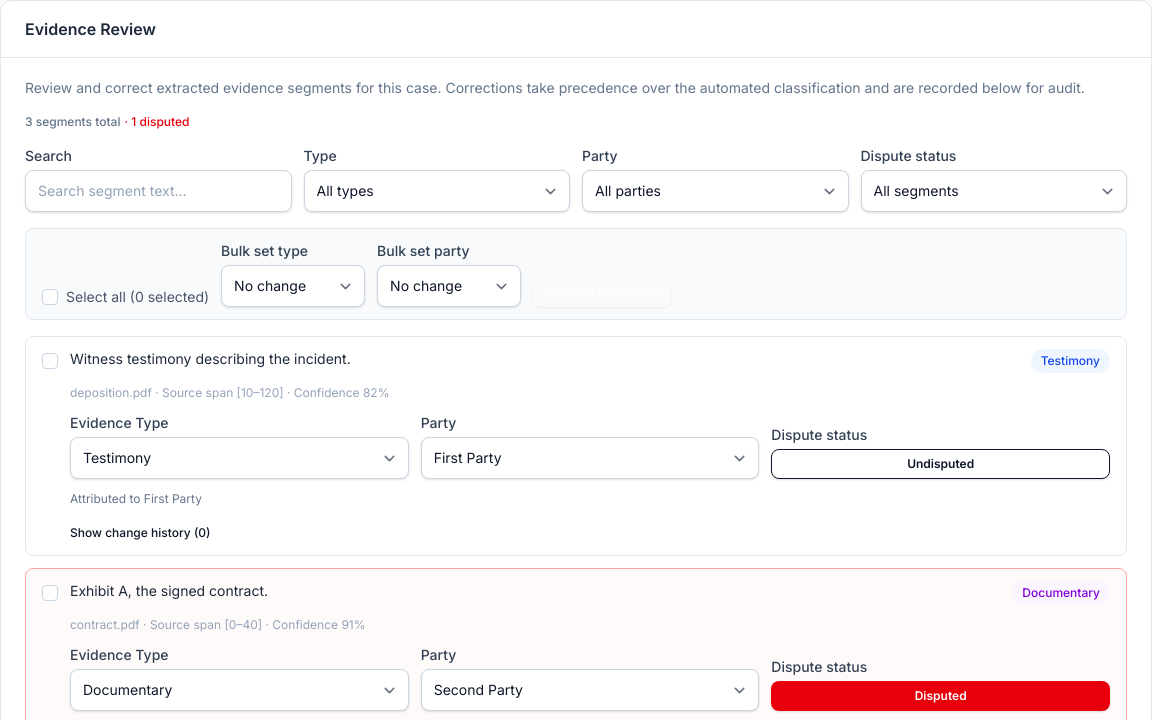
Scenario: EvidenceReviewPanel › toggles a segment between disputed and undisputed
Step 1. Click the button "Undisputed" → (941, 464), box x1=771 y1=449 x2=1110 y2=479
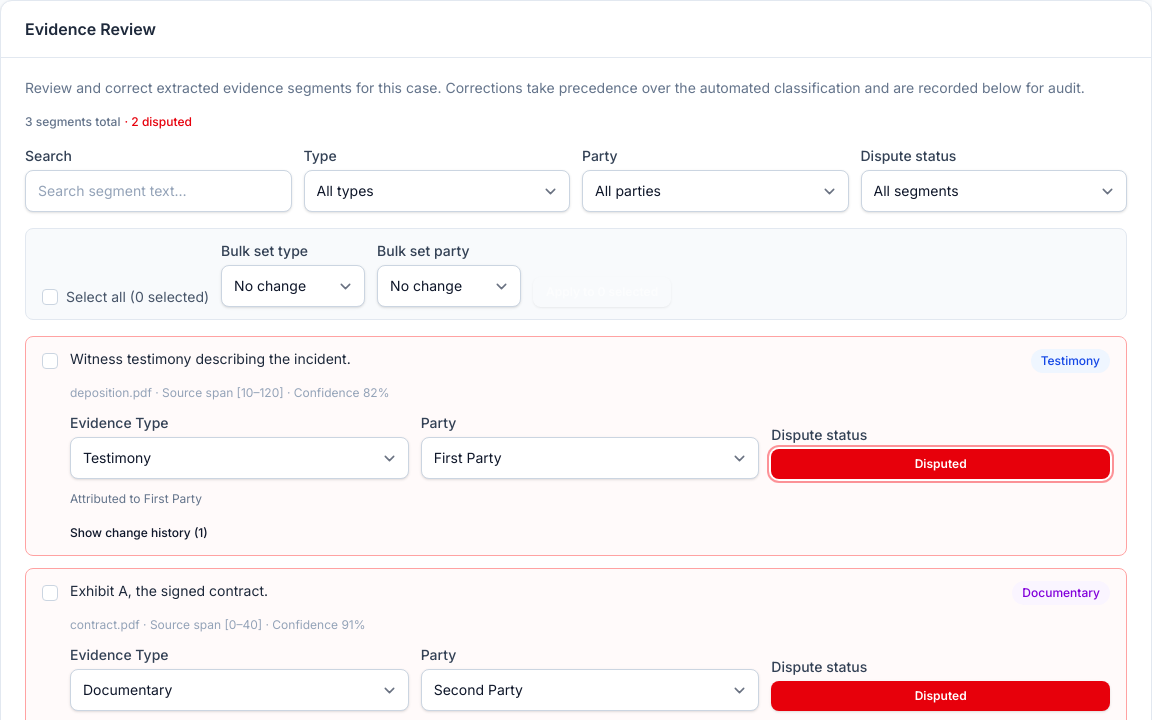
Result: the 1st button "Disputed" is shown at x1=771 y1=449 x2=1110 y2=479
